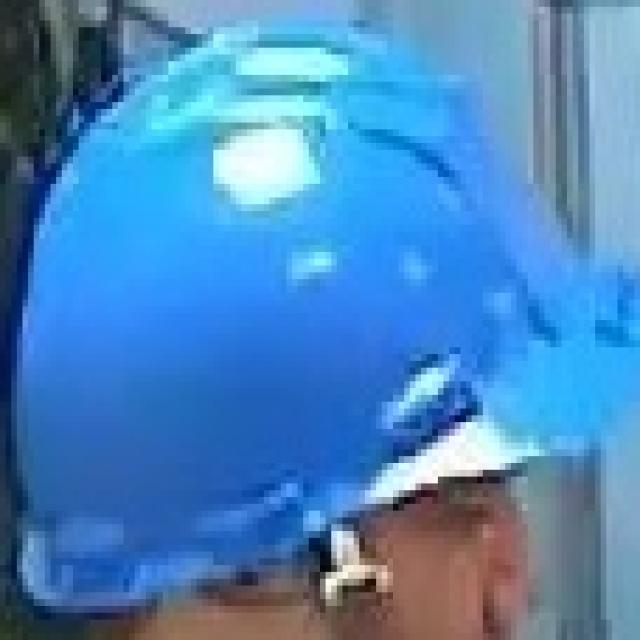helmet_blue: (3, 4, 637, 636)
